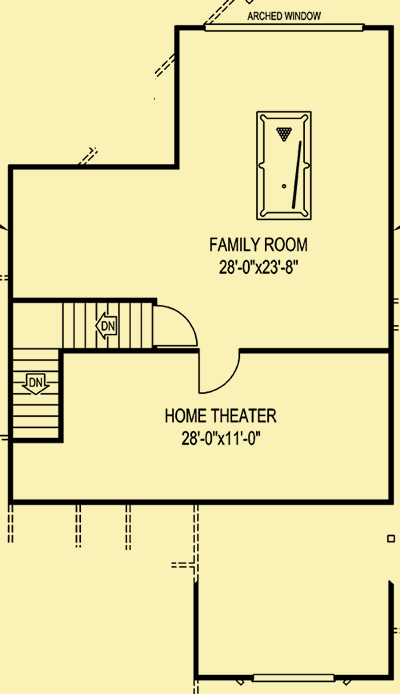door: (197, 350, 242, 398), (155, 305, 201, 350)
stairs: (7, 343, 67, 442), (61, 299, 156, 351)
